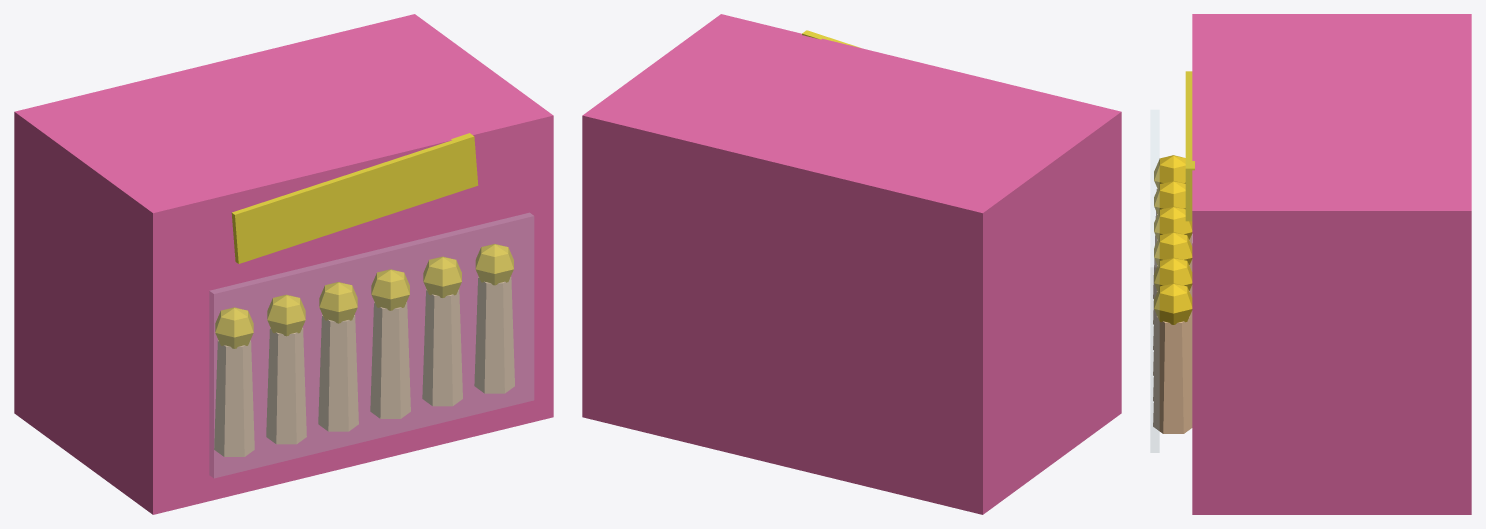
Rendered from fake_doll_box.glb.
3 views of the same model, side by side, from view 1: azimuth 30°, elevation 25°; view 2: azimuth 150°, elevation 25°; view 3: azimuth 270°, elevation 25° (orthographic).
Visible parts, largest first — view 1: box_box_pink, window_box_window, dolls_doll_skin (×6), label_label_yellow, hair_doll_hair (×6); view 2: box_box_pink; view 3: box_box_pink, hair_doll_hair (×6), dolls_doll_skin, window_box_window, label_label_yellow.
Part boxes in pixels (box(x1,y1,x2,y2)): box_box_pink: box(14, 14, 553, 514); window_box_window: box(209, 213, 533, 477); dolls_doll_skin (×6): box(214, 277, 514, 456); label_label_yellow: box(231, 133, 478, 263); hair_doll_hair (×6): box(215, 244, 513, 348); box_box_pink: box(582, 14, 1121, 514); box_box_pink: box(1192, 14, 1471, 514); hair_doll_hair (×6): box(1154, 155, 1192, 324); dolls_doll_skin: box(1153, 316, 1192, 433); window_box_window: box(1150, 110, 1159, 452); label_label_yellow: box(1185, 71, 1194, 221).
Size of the model in its own units: 0.5 by 0.3619 by 0.345.
